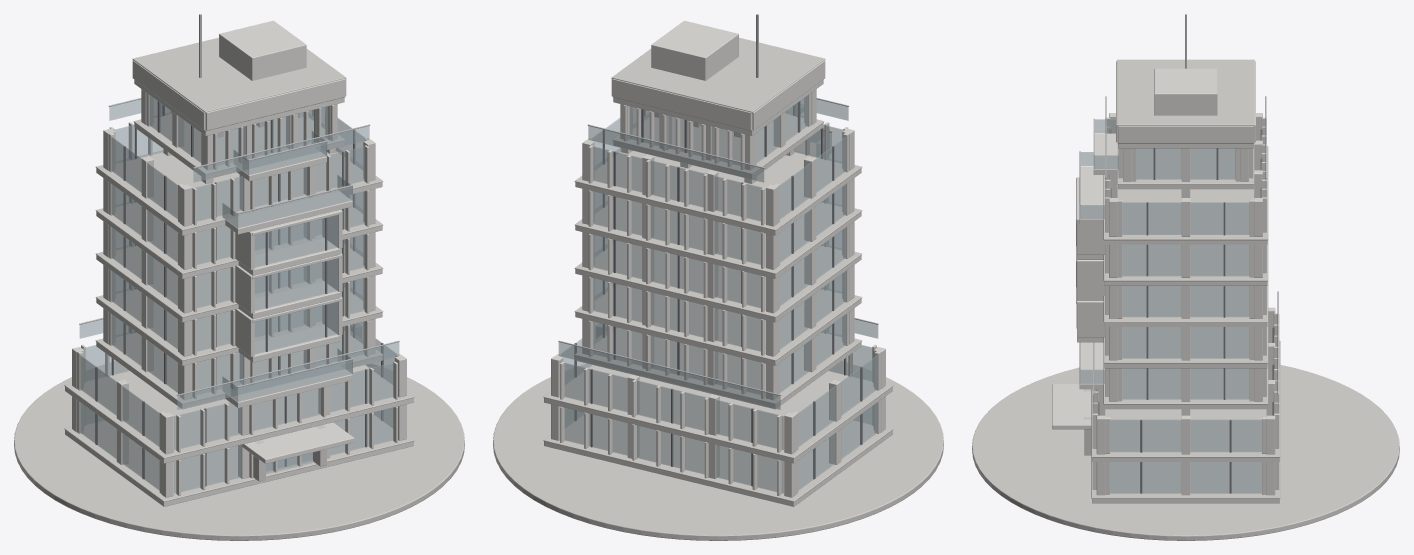
Rendered from building.glb.
3 renders of one model, left to right at view 1: azimuth 30°, elevation 25°; view 2: azimuth 150°, elevation 25°; view 3: azimuth 270°, elevation 25°, orthographic. The views are drawn at different scales.
Visible parts, largest first — view 1: Ground, Floor_1, Floor_6, Floor_8, Floor_0, Floor_2, Floor_3, Floor_4, Floor_5, Floor_7; view 2: Ground, Floor_1, Floor_6, Floor_8, Floor_0, Floor_2, Floor_4, Floor_3, Floor_5, Floor_7; view 3: Ground, Floor_8, Floor_6, Floor_1, Floor_0, Floor_2, Floor_3, Floor_5, Floor_4, Floor_7.
Boxes of the visible parts, x1,y1,x2,y2 form: Ground: (14,361,464,540); Floor_1: (64,323,414,463); Floor_6: (95,110,383,235); Floor_8: (132,14,346,135); Floor_0: (64,396,414,506); Floor_2: (79,308,399,409); Floor_3: (95,265,383,365); Floor_4: (96,221,383,322); Floor_5: (95,178,382,278); Floor_7: (108,89,370,182); Ground: (493,361,943,540); Floor_1: (543,323,893,463); Floor_6: (574,110,862,235); Floor_8: (611,14,825,135); Floor_0: (543,396,893,506); Floor_2: (558,308,878,409); Floor_4: (574,221,861,322); Floor_3: (574,265,862,365); Floor_5: (575,178,862,278); Floor_7: (587,89,849,182); Ground: (972,365,1399,540); Floor_8: (1116,14,1255,148); Floor_6: (1079,113,1268,244); Floor_1: (1091,307,1280,461); Floor_0: (1052,384,1280,503); Floor_2: (1079,291,1278,409); Floor_3: (1076,263,1268,368); Floor_5: (1076,177,1268,285); Floor_4: (1076,221,1268,326); Floor_7: (1093,96,1266,191).
Bounding box in the file's own units: 30.6 × 33.03 × 30.6.
